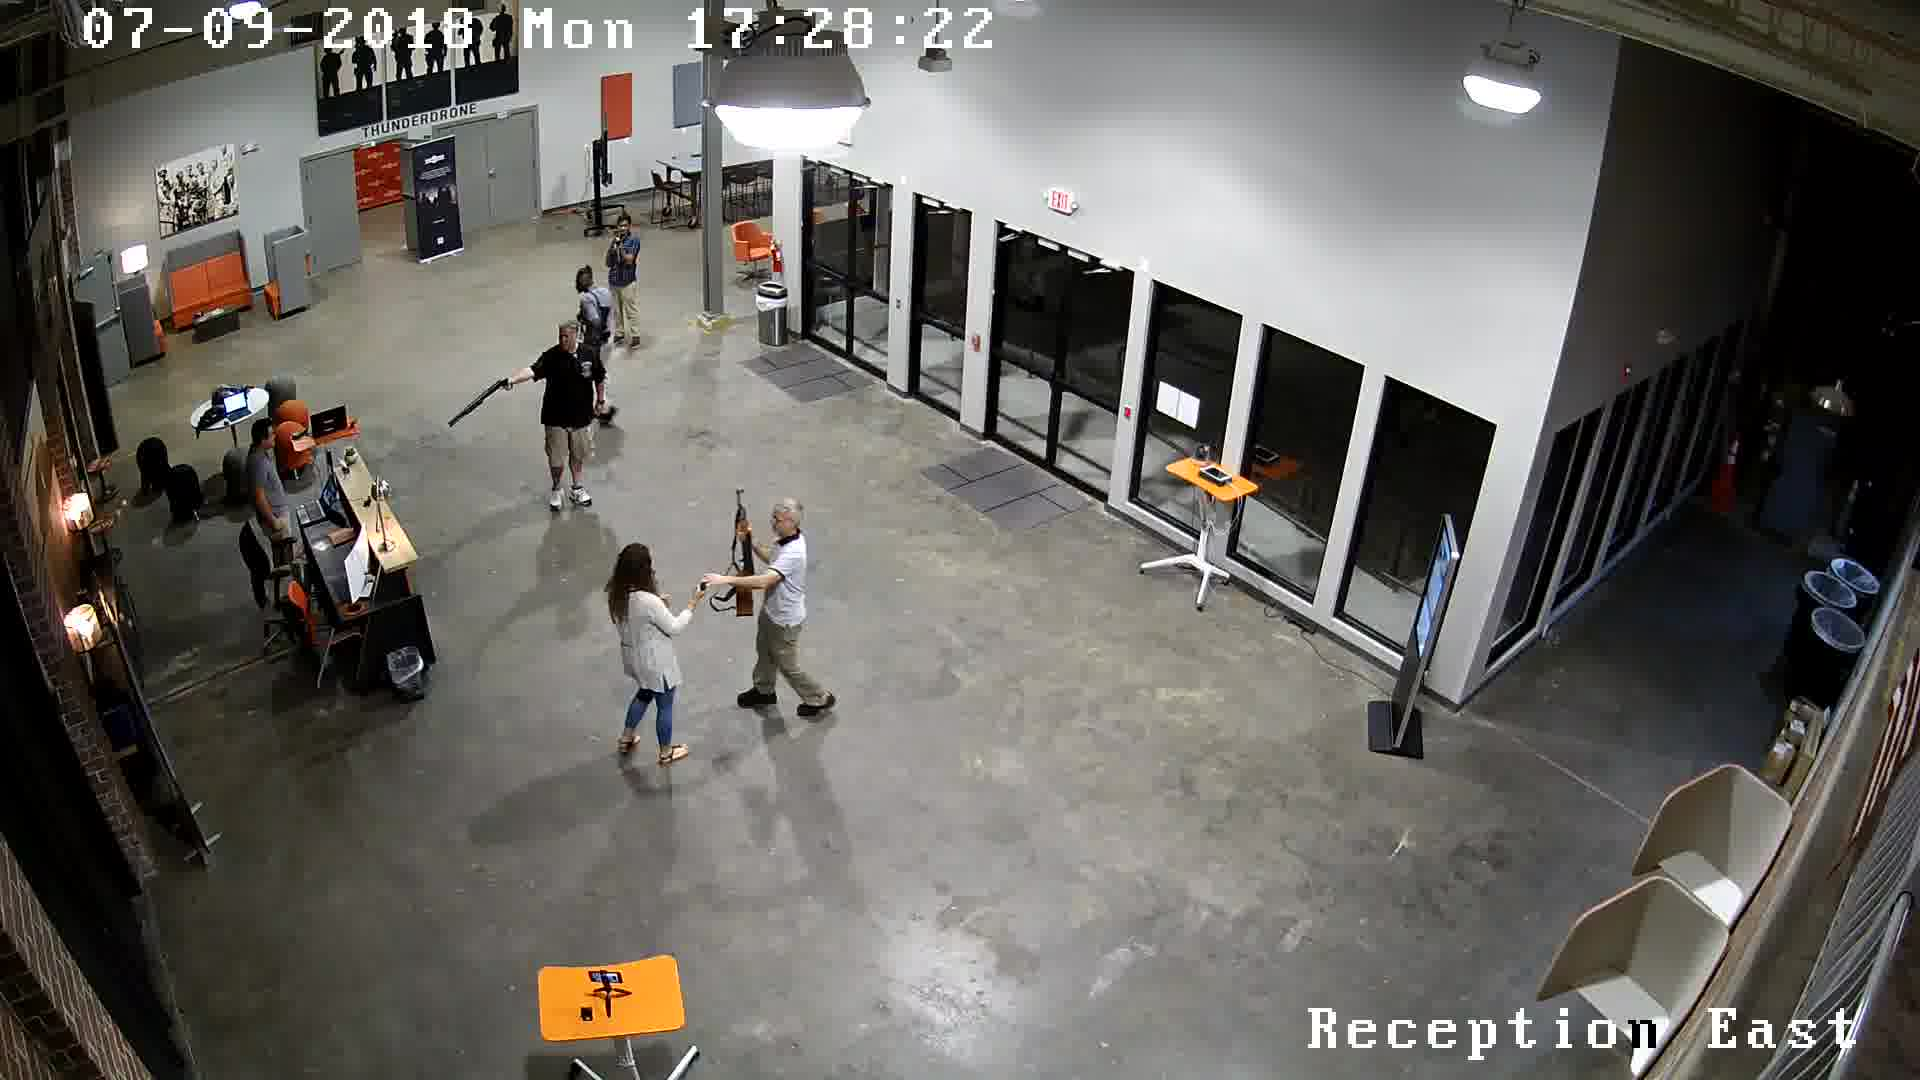pistol: (686, 568, 720, 611)
